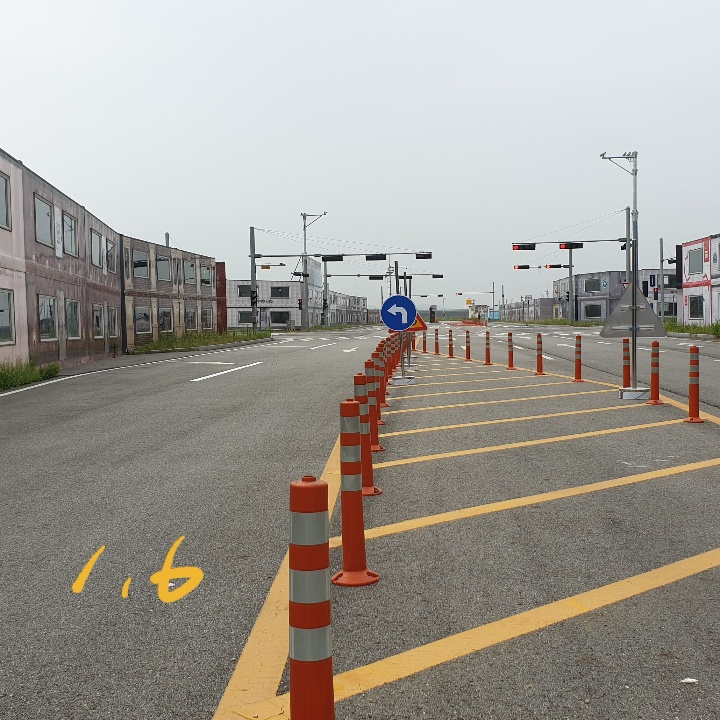left: (386, 300, 410, 326)
